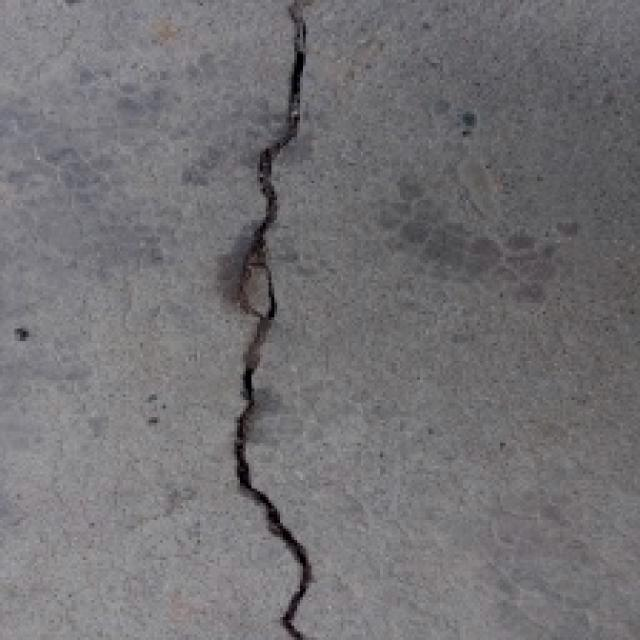crack: (224, 0, 330, 640)
